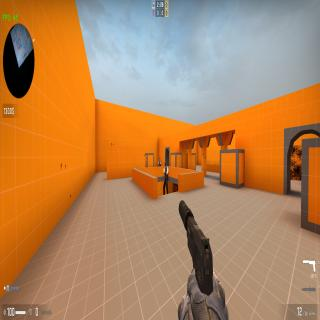T-Body: (163, 161, 169, 195), (158, 158, 161, 166)
T-Head: (165, 161, 167, 167), (159, 158, 160, 161)
